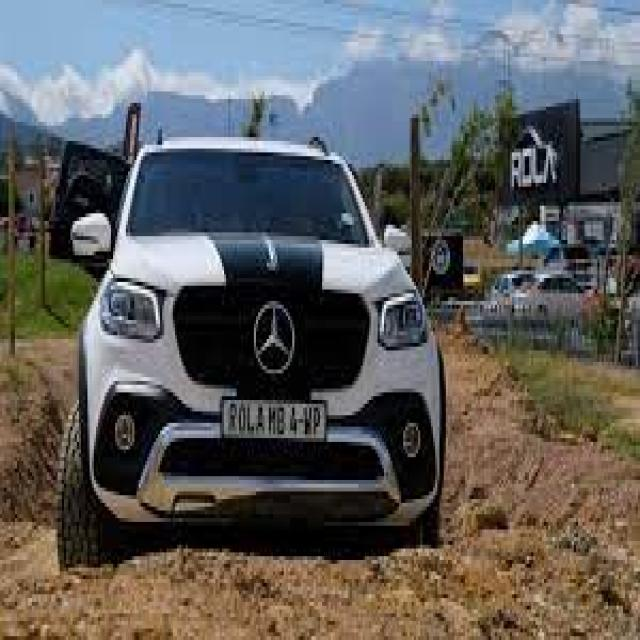Pickup Trucks: (55, 141, 444, 579)
